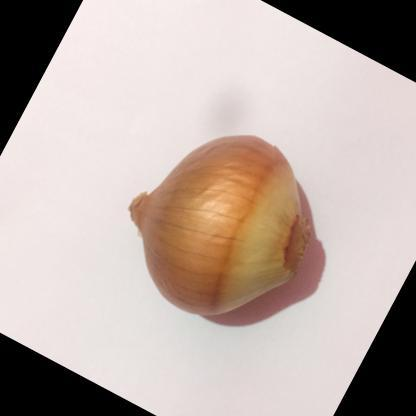onion: (75, 80, 376, 394)
